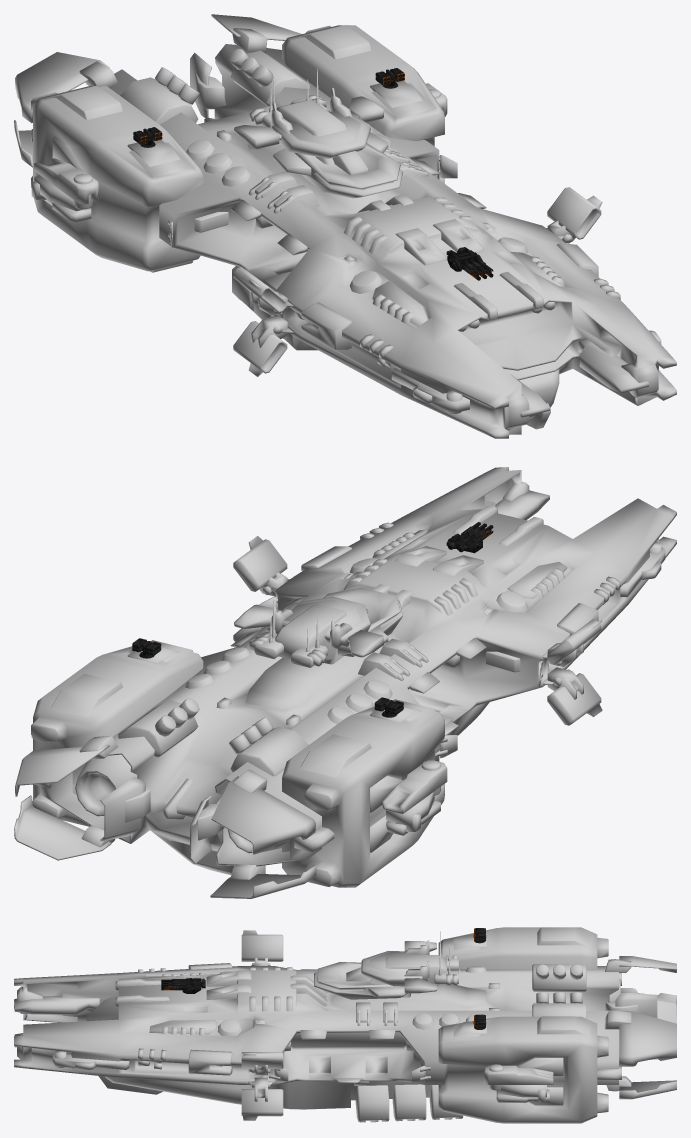
Rendered from Nakamura-Destroyer.FBX.
3 renders of one model, top to bottom at view 1: azimuth 30°, elevation 25°; view 2: azimuth 150°, elevation 25°; view 3: azimuth 270°, elevation 25°, orthographic. The views are drawn at different scales.
Parts seen in each view (by area): view 1: Nakamura-Destroyer-LP; view 2: Nakamura-Destroyer-LP; view 3: Nakamura-Destroyer-LP, HSpaceships_Laser-X3-B.
Boxes of the visible parts, x1,y1,x2,y2 form: Nakamura-Destroyer-LP: (14, 14, 676, 438); Nakamura-Destroyer-LP: (14, 467, 676, 898); Nakamura-Destroyer-LP: (14, 927, 676, 1123); HSpaceships_Laser-X3-B: (161, 979, 189, 990).
Bounding box in the file's own units: 12349 × 25147 × 7147.
